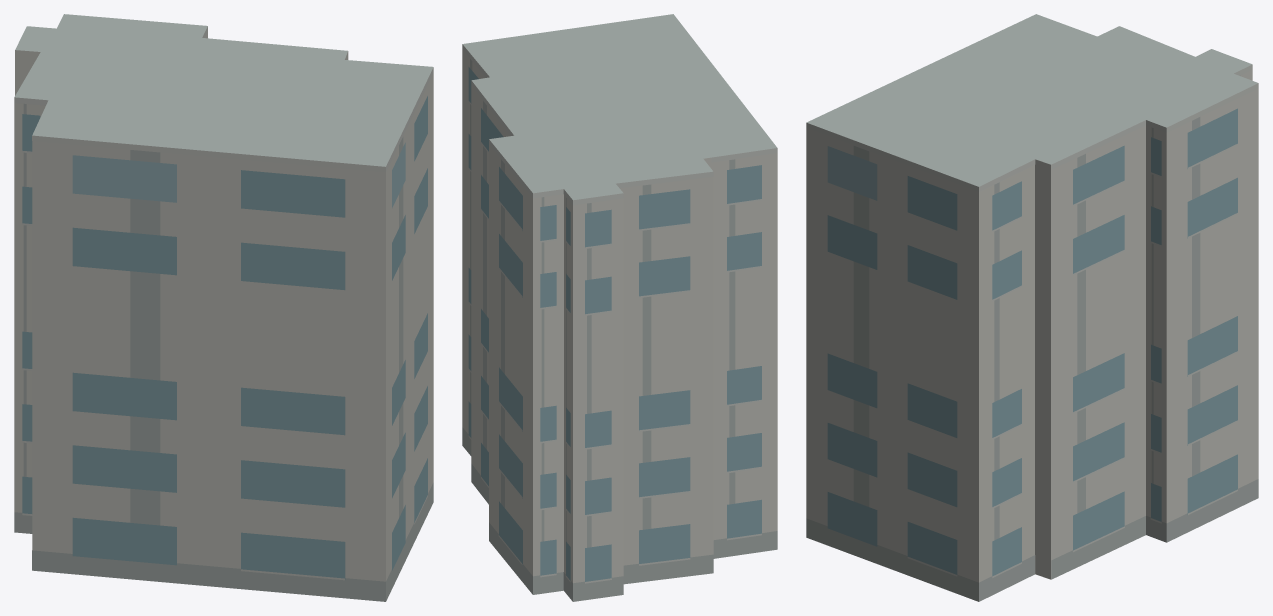
File: survey-upis-32892763.glb
3 renders of one model, left to right at view 1: azimuth 30°, elevation 25°; view 2: azimuth 150°, elevation 25°; view 3: azimuth 270°, elevation 25°, orthographic. The views are drawn at different scales.
Parts seen in each view (by area): view 1: survey-upis-32892763.tmp; view 2: survey-upis-32892763.tmp; view 3: survey-upis-32892763.tmp.
Part boxes in pixels (bbox=[...]): survey-upis-32892763.tmp: bbox=[14, 14, 433, 601]; survey-upis-32892763.tmp: bbox=[462, 14, 777, 601]; survey-upis-32892763.tmp: bbox=[806, 14, 1258, 601].
Size of the model in its own units: 16.9 by 18.9 by 18.68.
